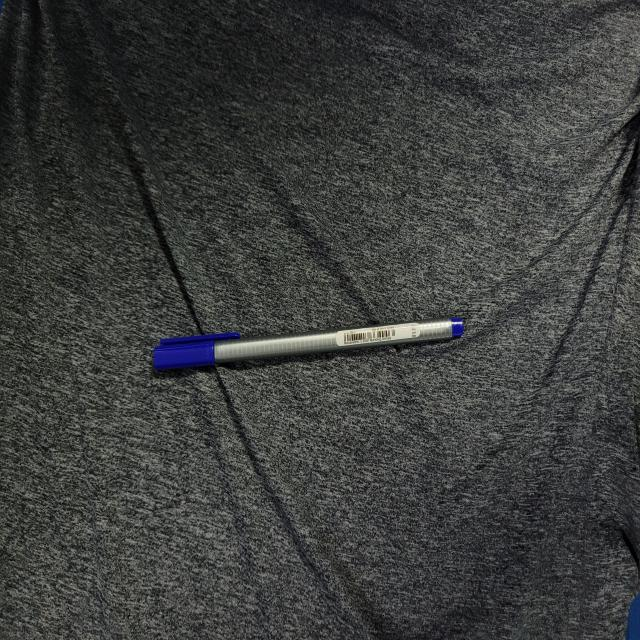caneta: (137, 308, 471, 382)
